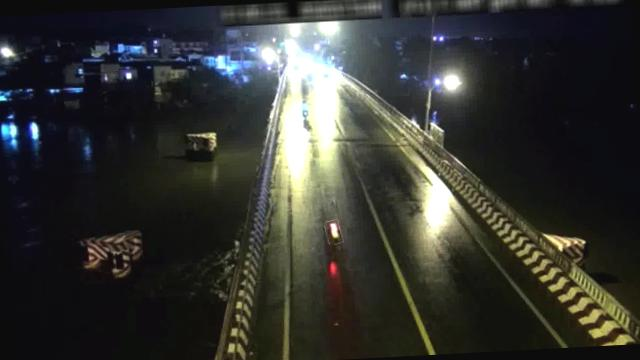Bike: (324, 219, 341, 244), (299, 99, 312, 120)
